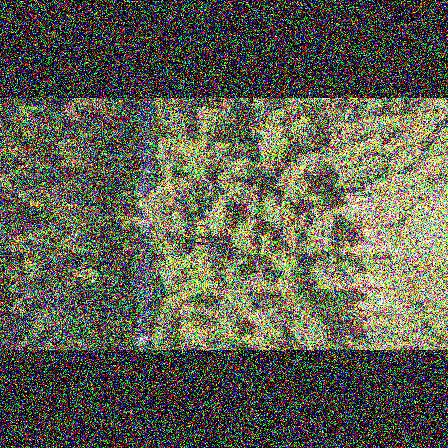Sick: (168, 214, 194, 241), (214, 314, 243, 338), (275, 274, 298, 298), (174, 174, 197, 198), (226, 178, 247, 203)
